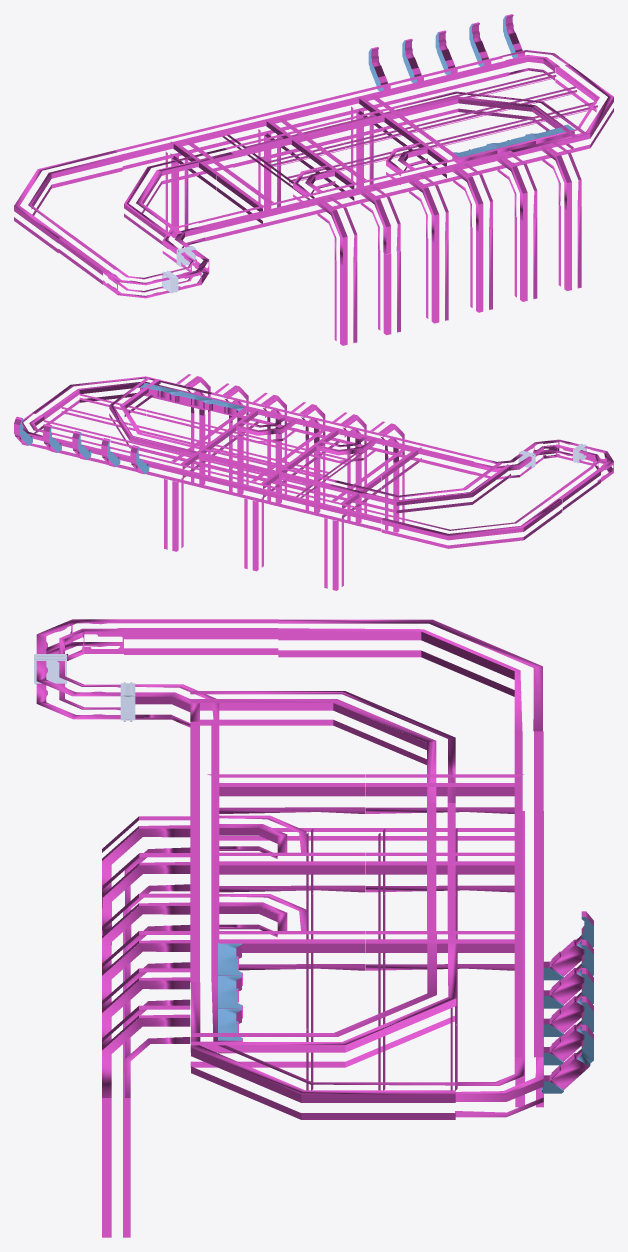
The model's file is surface_support_foundation_e.glb.
3 renders of one model, top to bottom at view 1: azimuth 30°, elevation 25°; view 2: azimuth 150°, elevation 25°; view 3: azimuth 270°, elevation 25°, orthographic. The views are drawn at different scales.
Size of the model in its own units: 1093 by 286 by 545.
